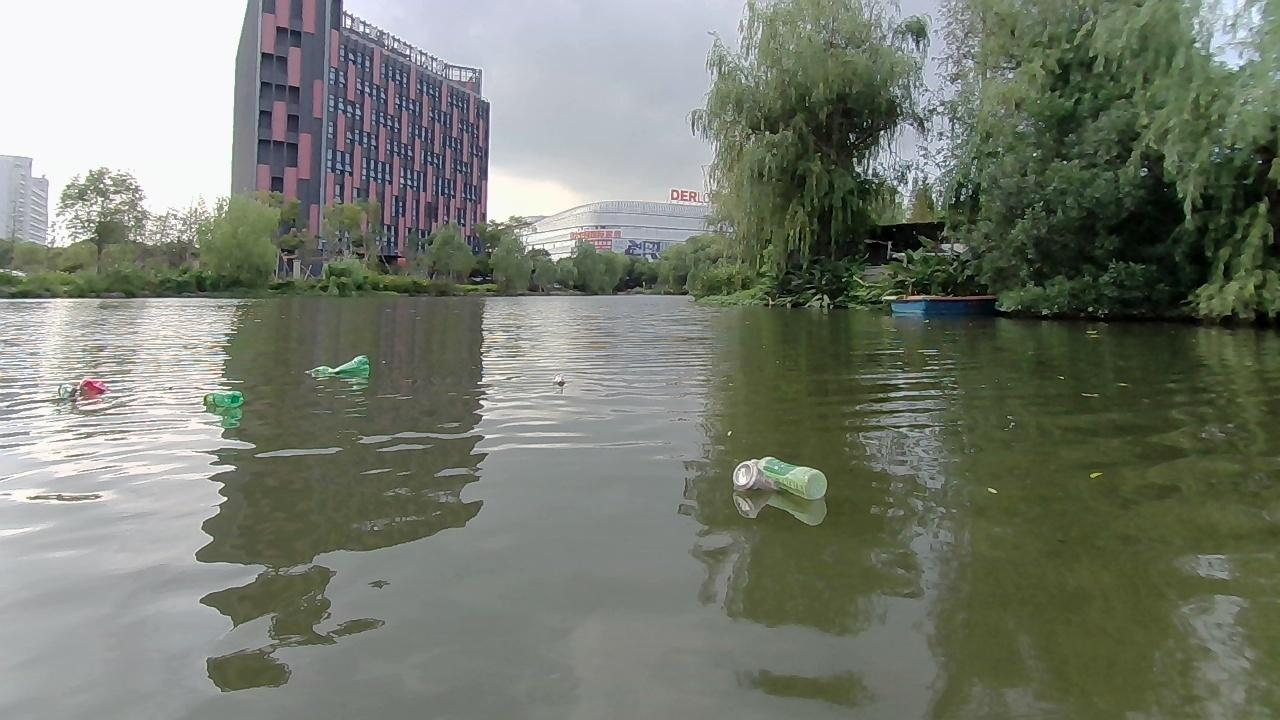bottle: (755, 454, 827, 499), (311, 355, 373, 379), (198, 385, 246, 411), (730, 462, 779, 487), (76, 375, 111, 401), (54, 378, 81, 398), (551, 372, 566, 387)
